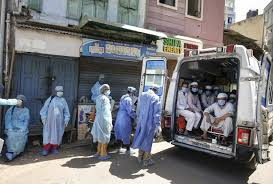mask: (215, 92, 226, 106), (15, 93, 25, 108), (100, 83, 110, 98), (54, 86, 63, 100), (128, 85, 136, 100), (191, 80, 199, 93), (204, 84, 212, 96), (180, 80, 187, 93), (199, 84, 203, 94)
